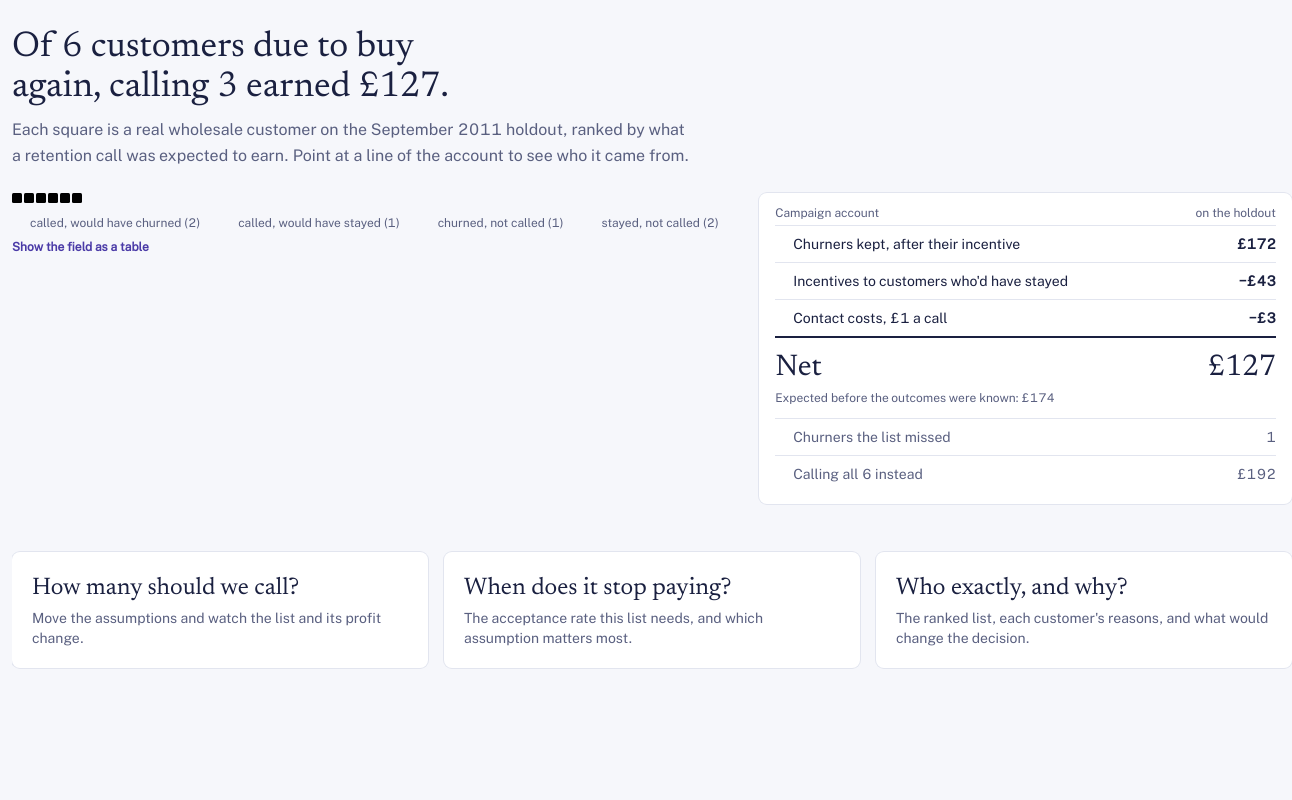
Test: the field can be read as a table
Check: the heading "Of 6 customers due to buy again, calling 3 earned £127." is shown, box [12,30,449,106]
Click the button "Show the field as a table" at (80, 247), box [12,239,149,255]
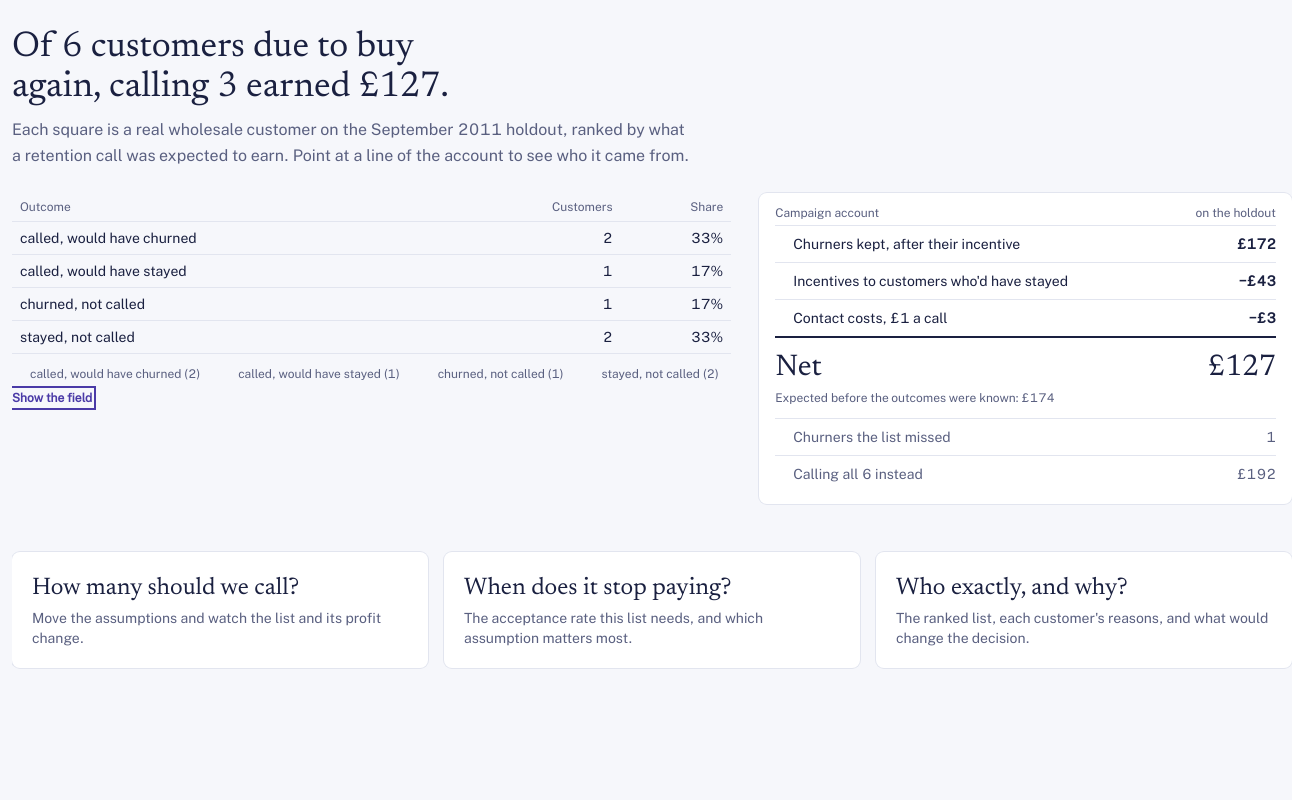
Check: the rows read "OutcomeCustomersShare", "called, would have churned233%", "called, would have stayed117%", "churned, not called117%", "stayed, not called233%", in this order, box [12,193,731,221]; [12,222,731,254]; [12,254,731,287]; [12,287,731,320]; [12,320,731,353]
